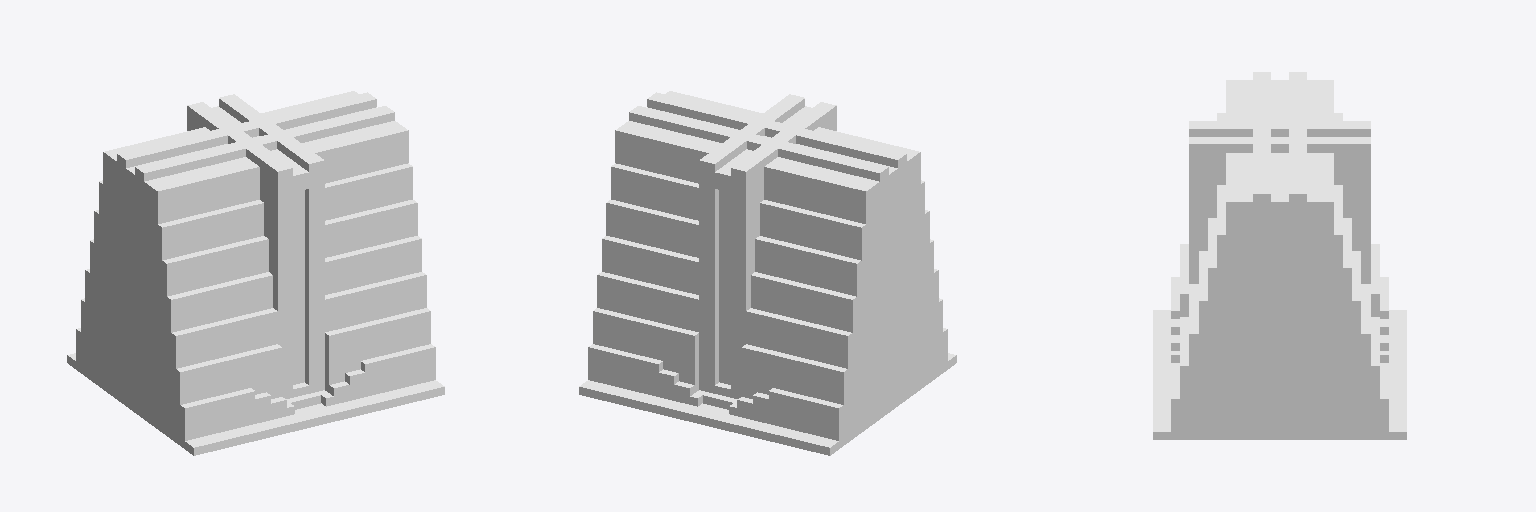
Rendered from wallDirect.obj.
3 views of the same model, side by side, from view 1: azimuth 30°, elevation 25°; view 2: azimuth 150°, elevation 25°; view 3: azimuth 270°, elevation 25° (orthographic).
Visible parts, largest first — view 1: object 1; view 2: object 1; view 3: object 1.
Boxes of the visible parts, <box> form: object 1: <box>67,91,444,455</box>; object 1: <box>579,91,956,455</box>; object 1: <box>1153,72,1406,439</box>.
Bounding box in the file's own units: 3.2 × 3 × 2.8.